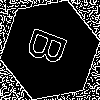B: (25, 25, 77, 72)
